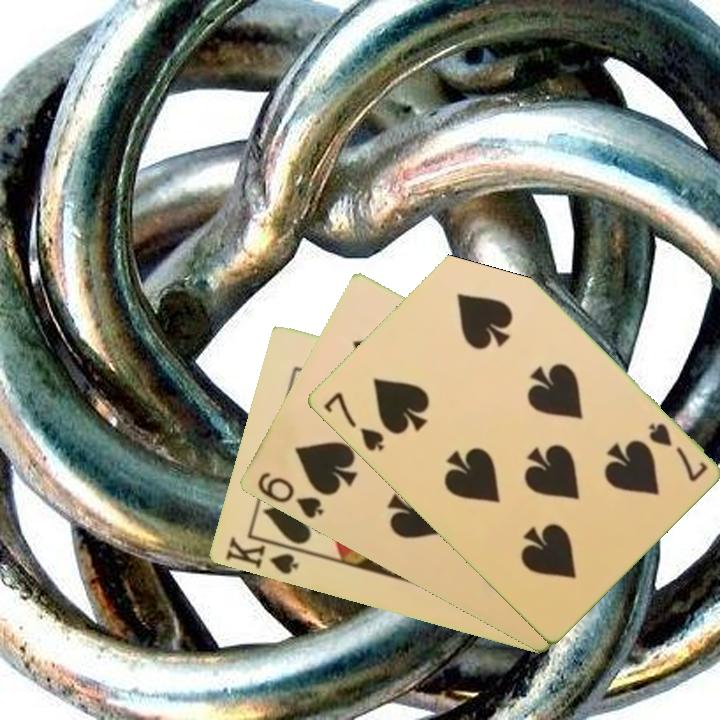6s: (253, 468, 326, 522)
7s: (319, 388, 387, 455), (644, 419, 710, 485)
Ks: (221, 533, 301, 578)
